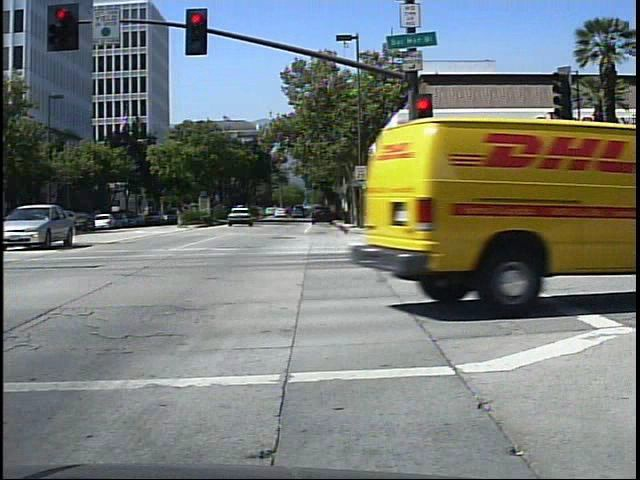person: (283, 204, 296, 222)
